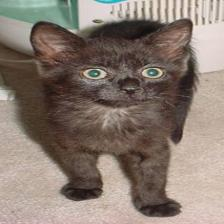cat: (24, 17, 199, 106)
